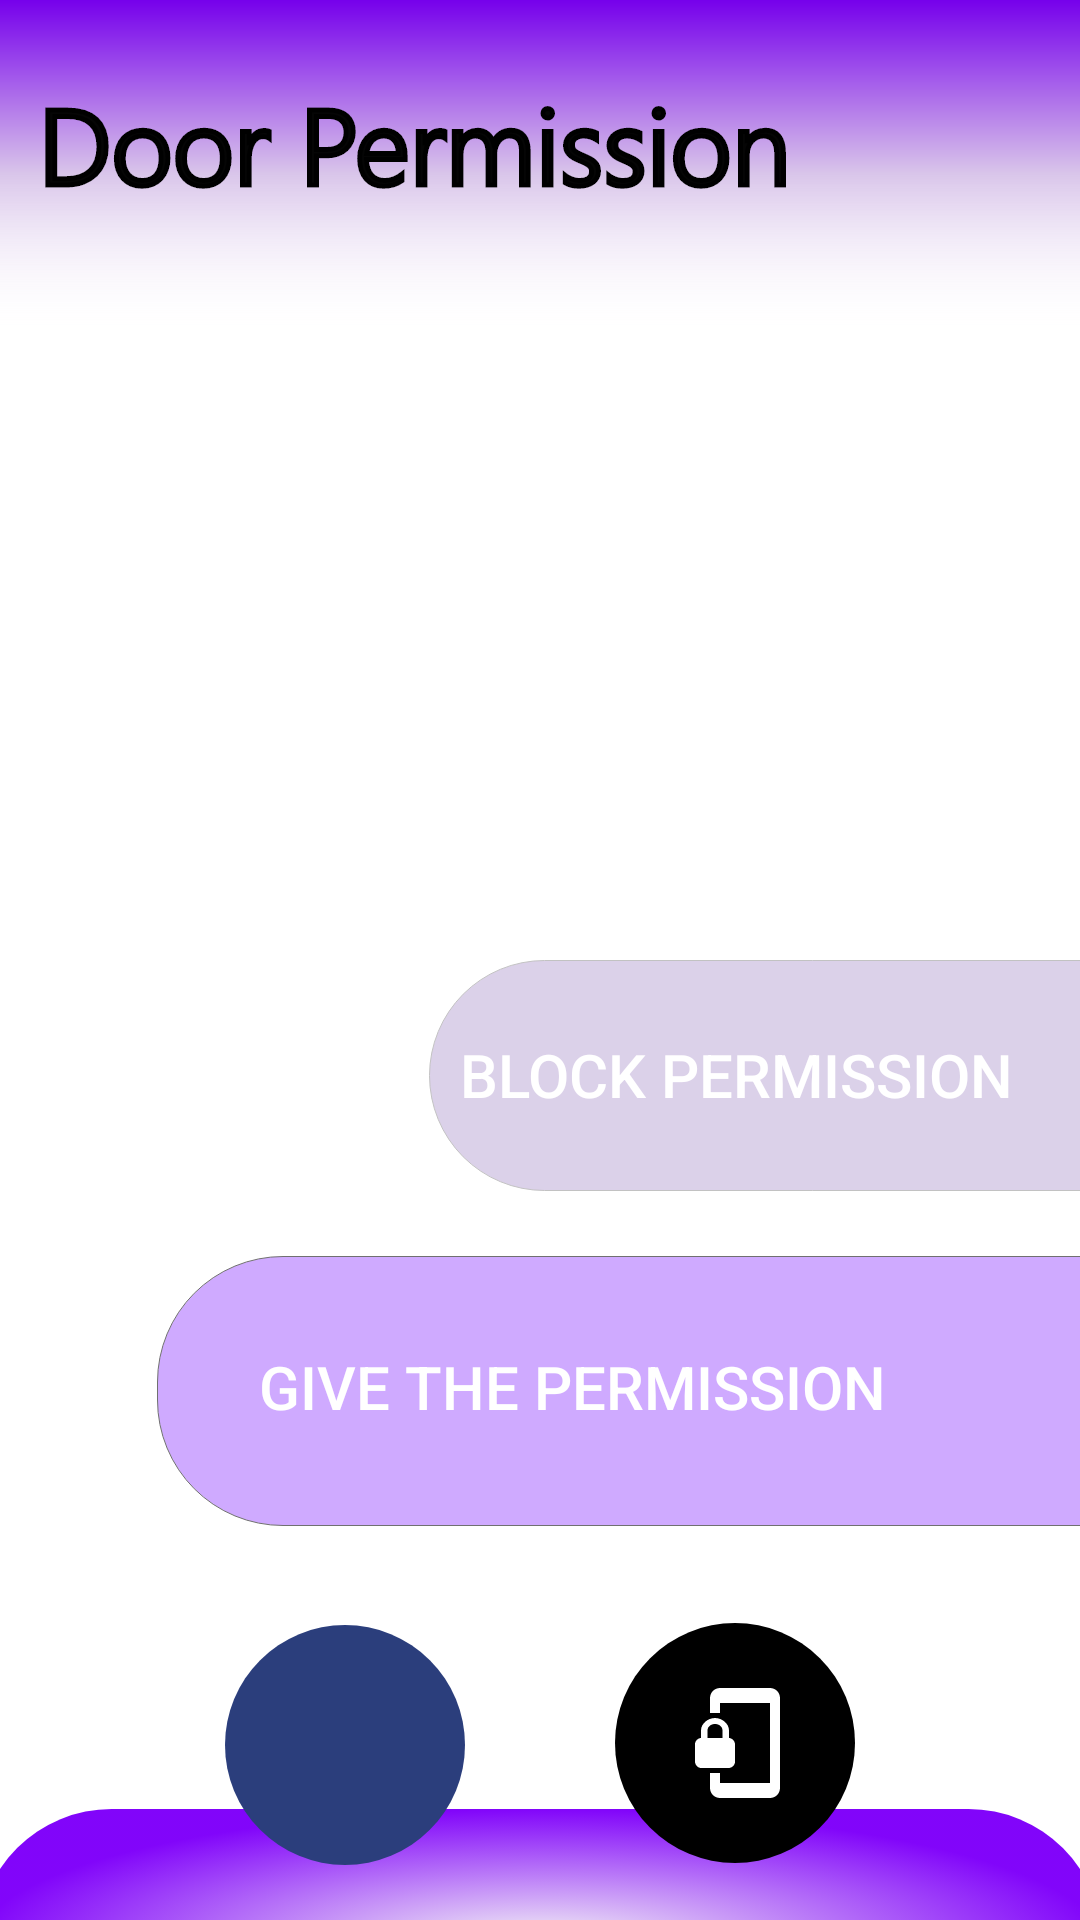

Screen size 1080×1920. Icon name, then its box in pixels as (x1, y1, x2, y2):
plock: (615, 1623, 855, 1863)
